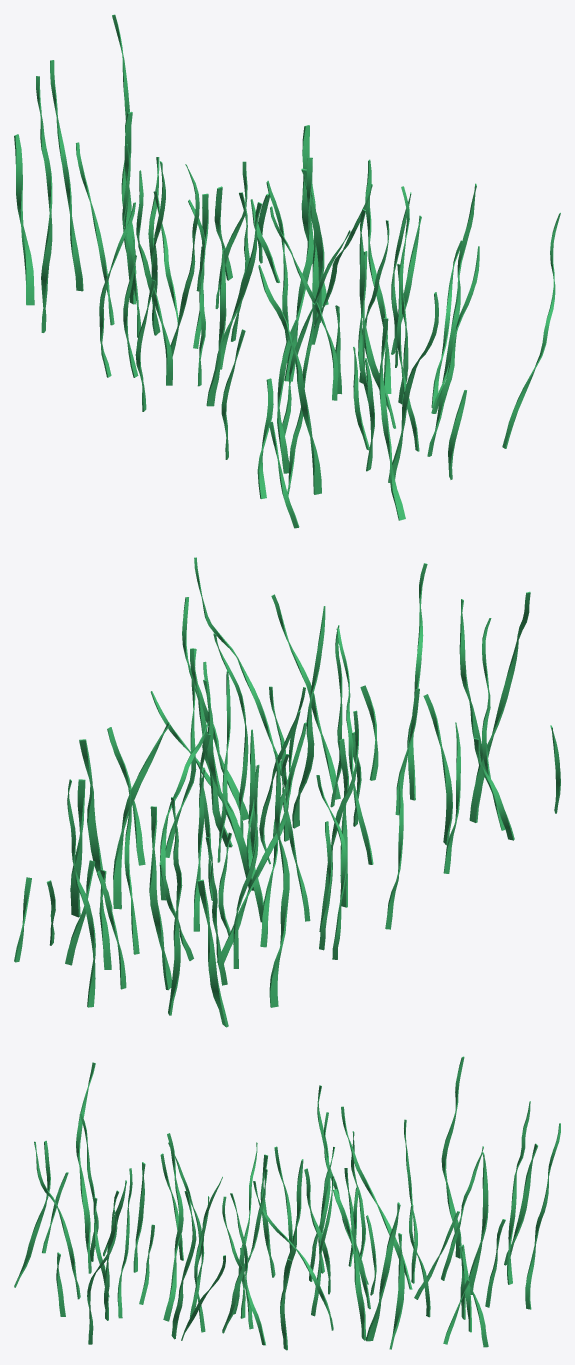
Rendered from coral_seaweed_A_dense.fbx.
3 renders of one model, top to bottom at view 1: azimuth 30°, elevation 25°; view 2: azimuth 150°, elevation 25°; view 3: azimuth 270°, elevation 25°, orthographic. The views are drawn at different scales.
Parts seen in each view (by area): view 1: coral_seaweed_A_dense; view 2: coral_seaweed_A_dense; view 3: coral_seaweed_A_dense.
Part boxes in pixels (x1=…): coral_seaweed_A_dense: x1=14, y1=14, x2=560, y2=528; coral_seaweed_A_dense: x1=14, y1=557, x2=560, y2=1027; coral_seaweed_A_dense: x1=14, y1=1056, x2=560, y2=1350.
Bounding box in the file's own units: 382 × 290 × 717.
